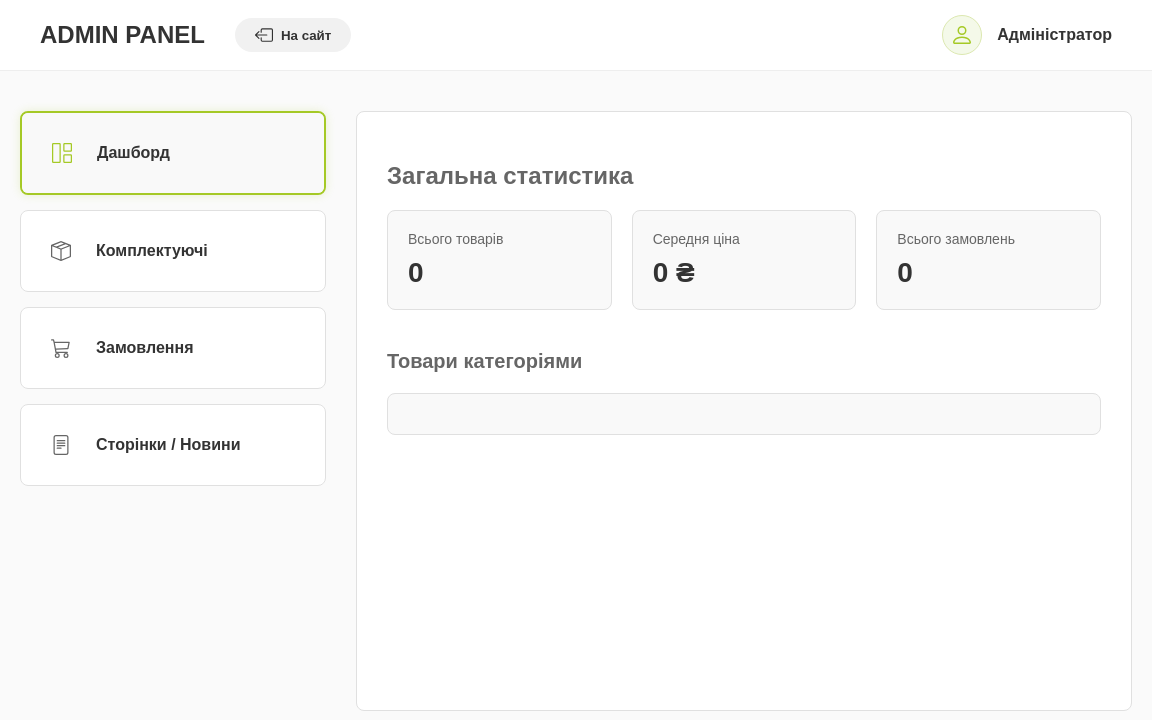
Test: AdminPage › switches to pages tab and displays pages
Click the text "Сторінки / Новини". click: (168, 445)
box: [96, 436, 240, 454]
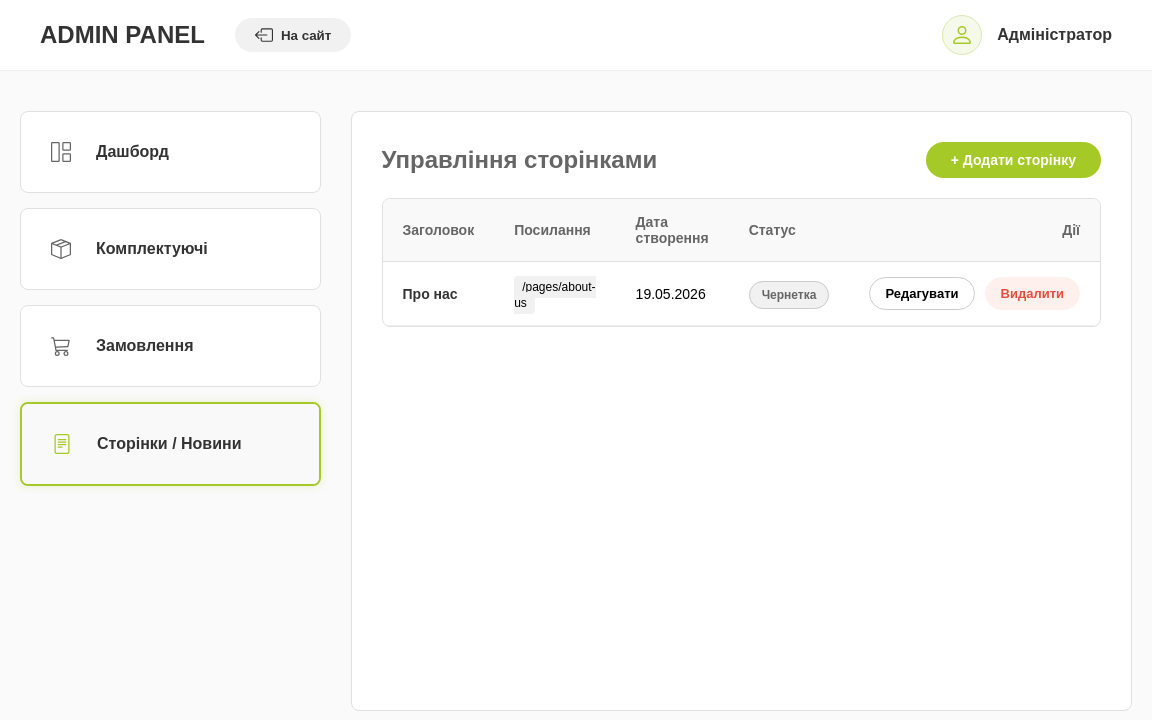
Now the text "Про нас" is shown, box [382, 262, 494, 326]
Now the text "/pages/about-us" is shown, box [514, 276, 596, 314]
